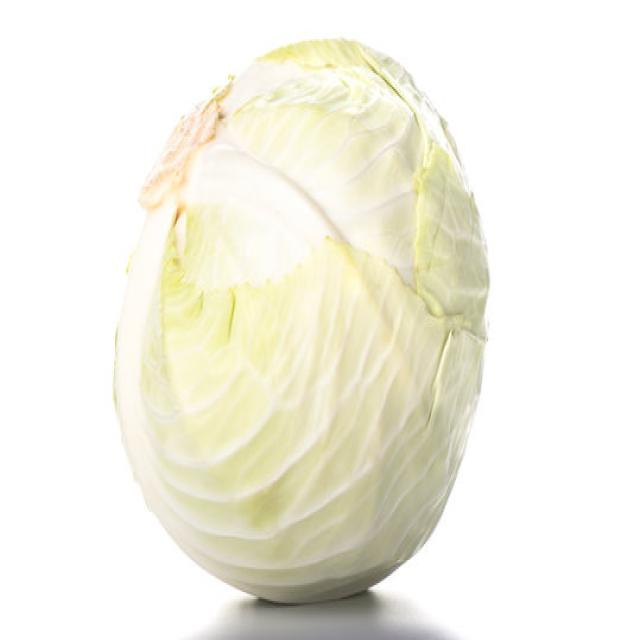Cabbage: (112, 34, 490, 604)
